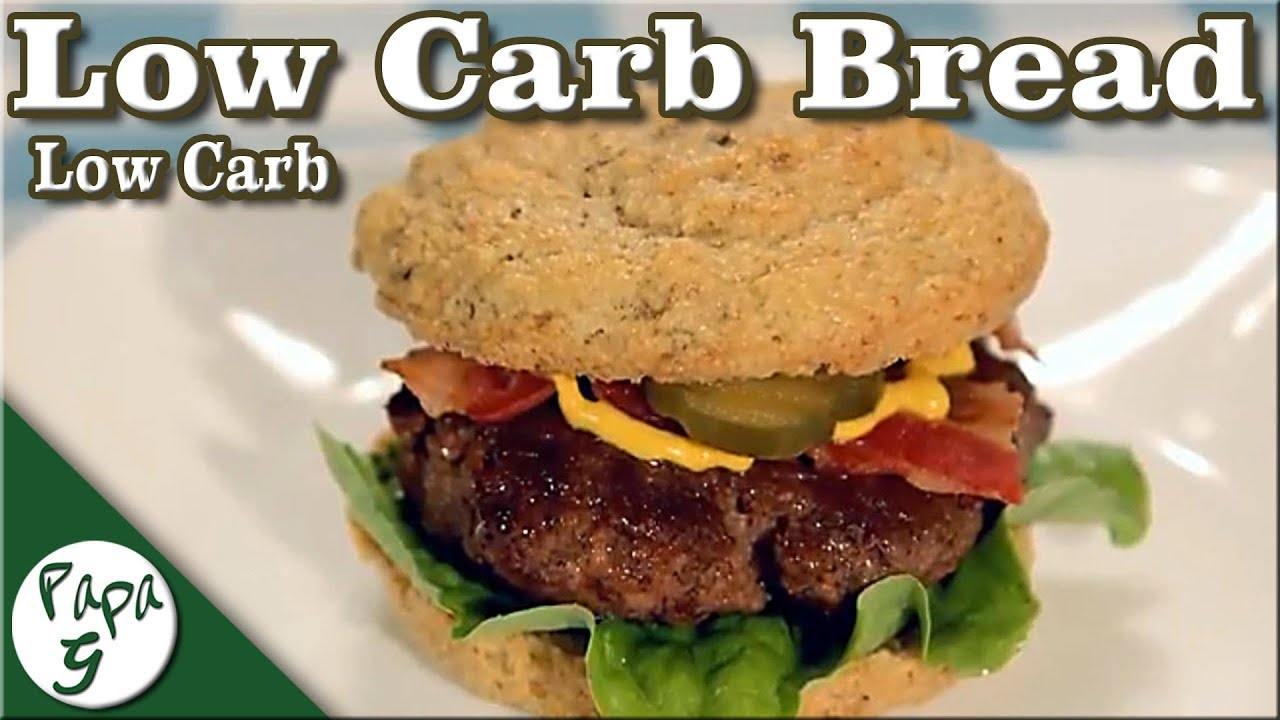hamburger_buns: (371, 75, 1062, 720)
